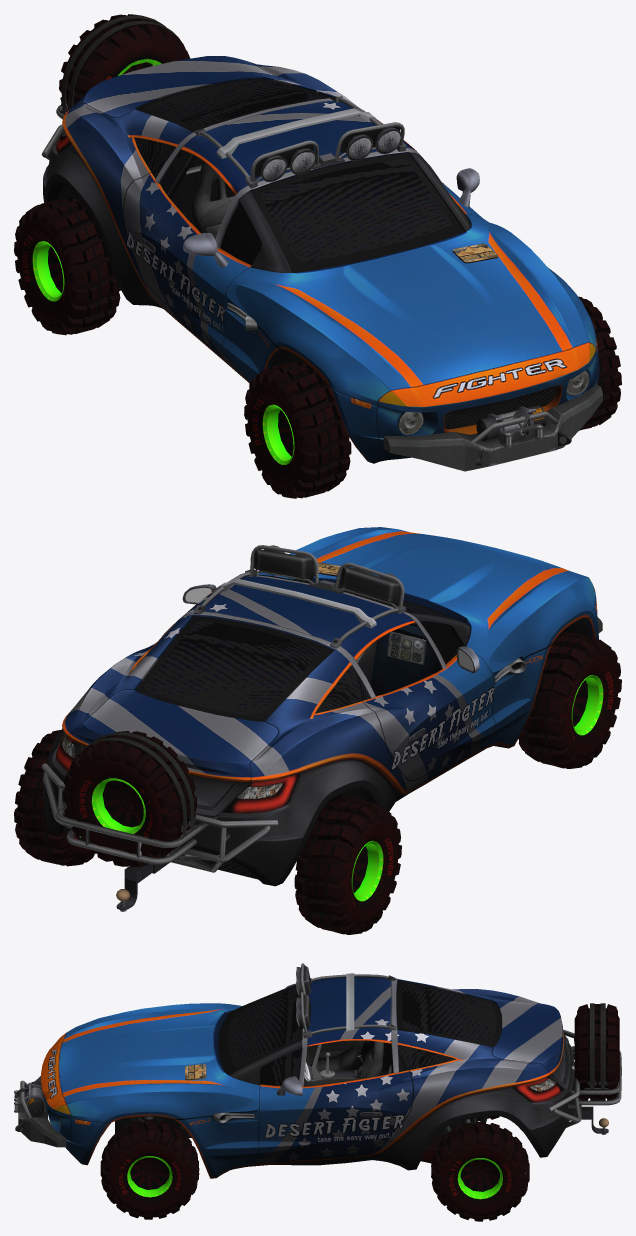
File: DesertFighter.fbx
3 renders of one model, top to bottom at view 1: azimuth 30°, elevation 25°; view 2: azimuth 150°, elevation 25°; view 3: azimuth 270°, elevation 25°, orthographic. The views are drawn at different scales.
Parts seen in each view (by area): view 1: Rally_Fighter_Body, Glass, r_front_tyre, r_rear_tyre, wheel_Xtra, Interior_lo, l_front_tyre, RallyFighter_interior; view 2: Rally_Fighter_Body, Glass, wheel_Xtra, r_rear_tyre, r_front_tyre, l_rear_tyre, RallyFighter_interior, Rear_light_Glow01; view 3: Rally_Fighter_Body, Glass, l_rear_tyre, l_front_tyre, wheel_Xtra, Interior_lo, RallyFighter_interior, Rally_Fighter_Chassis, Rear_light_Glow.
Boxes of the visible parts, x1=… form: Rally_Fighter_Body: x1=41, y1=15, x2=602, y2=471; Glass: x1=134, y1=79, x2=452, y2=265; r_front_tyre: x1=244, y1=361, x2=351, y2=498; r_rear_tyre: x1=14, y1=198, x2=120, y2=335; wheel_Xtra: x1=59, y1=14, x2=190, y2=111; Interior_lo: x1=159, y1=150, x2=233, y2=238; l_front_tyre: x1=578, y1=296, x2=621, y2=430; RallyFighter_interior: x1=192, y1=161, x2=234, y2=233; Rally_Fighter_Body: x1=41, y1=527, x2=602, y2=911; Glass: x1=136, y1=577, x2=461, y2=716; wheel_Xtra: x1=62, y1=731, x2=197, y2=867; r_rear_tyre: x1=294, y1=798, x2=401, y2=934; r_front_tyre: x1=518, y1=632, x2=621, y2=768; l_rear_tyre: x1=14, y1=730, x2=96, y2=866; RallyFighter_interior: x1=356, y1=624, x2=441, y2=695; Rear_light_Glow01: x1=222, y1=773, x2=299, y2=813; Rally_Fighter_Body: x1=14, y1=963, x2=621, y2=1178; Glass: x1=227, y1=983, x2=496, y2=1085; l_rear_tyre: x1=431, y1=1121, x2=529, y2=1221; l_front_tyre: x1=100, y1=1119, x2=199, y2=1219; wheel_Xtra: x1=574, y1=1004, x2=619, y2=1100; Interior_lo: x1=303, y1=1040, x2=391, y2=1086; RallyFighter_interior: x1=305, y1=1040, x2=391, y2=1080; Rally_Fighter_Chassis: x1=115, y1=1043, x2=487, y2=1137; Rear_light_Glow: x1=512, y1=1077, x2=563, y2=1102.
Bounding box in the file's own units: 2.52 × 1.78 × 5.42.
